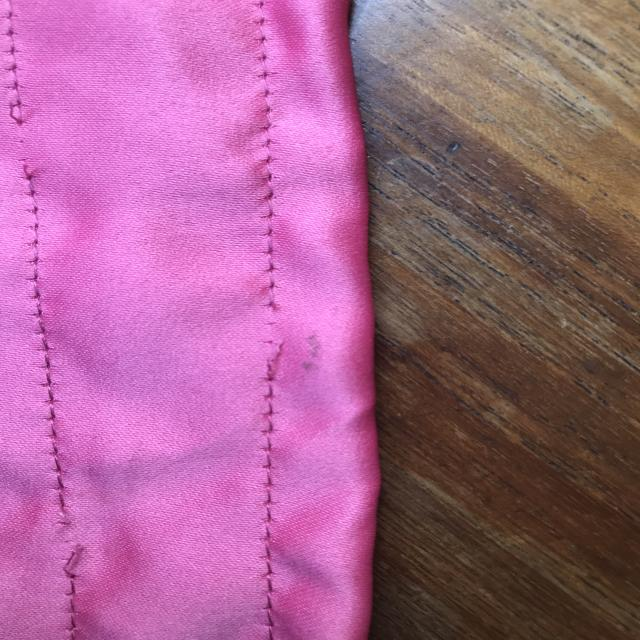broken: (234, 276, 294, 381), (40, 500, 102, 591)
